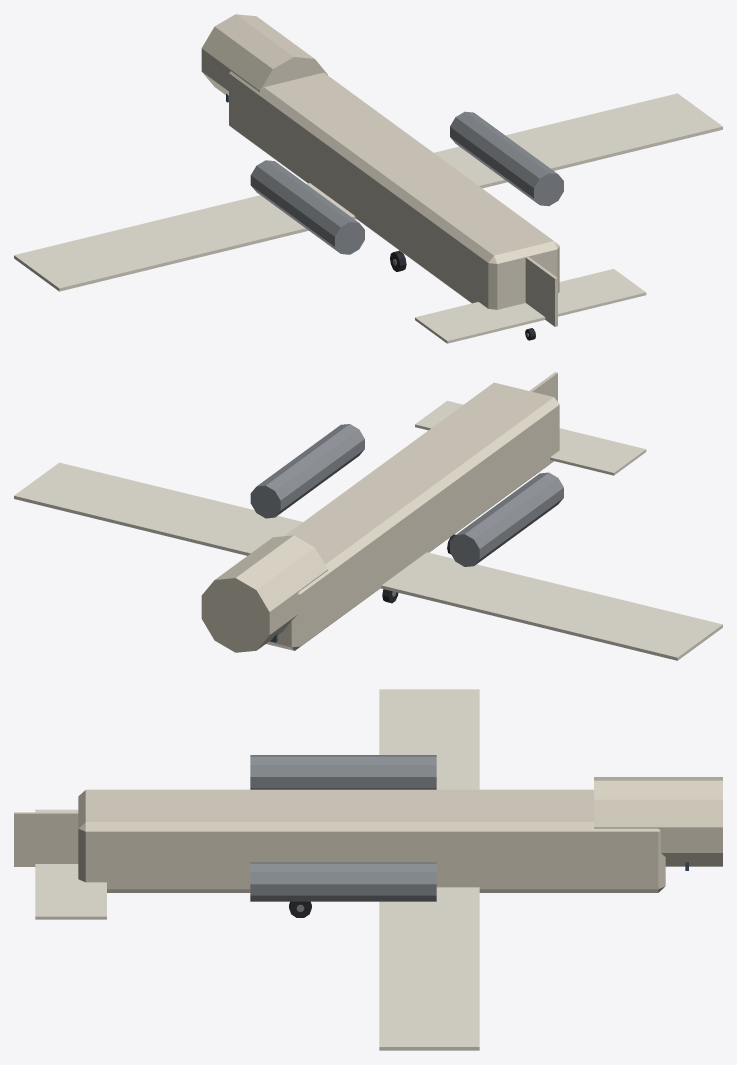
The model's file is vehicle.plane-large.glb.
3 renders of one model, top to bottom at view 1: azimuth 30°, elevation 25°; view 2: azimuth 150°, elevation 25°; view 3: azimuth 270°, elevation 25°, orthographic. The views are drawn at different scales.
Parts seen in each view (by area): view 1: vehicle.plane-large; view 2: vehicle.plane-large; view 3: vehicle.plane-large.
Boxes of the visible parts, bbox=[...] form: vehicle.plane-large: bbox=[14, 14, 722, 343]; vehicle.plane-large: bbox=[14, 372, 722, 660]; vehicle.plane-large: bbox=[14, 689, 722, 1050].
Bounding box in the file's own units: 26 × 4.09 × 21.78.
